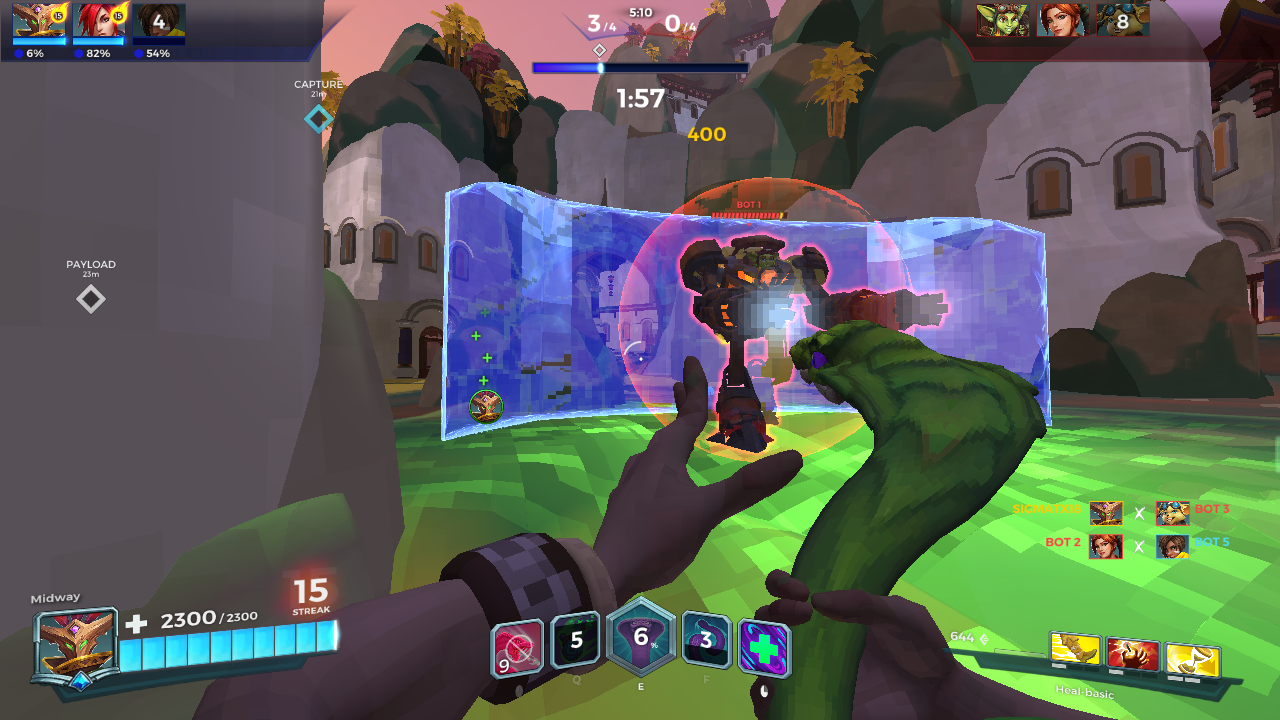model: (675, 222, 888, 423)
